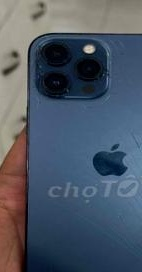physical_damage: (28, 114, 142, 272), (31, 31, 131, 114)
